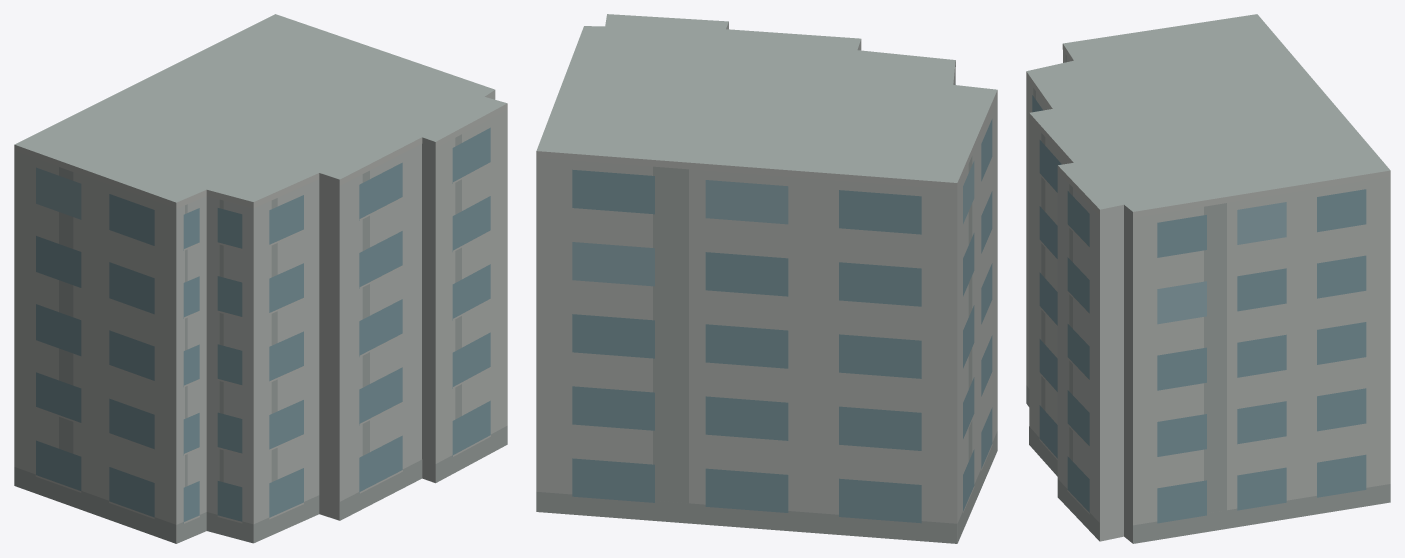
Rendered from survey-upis-32863524.glb.
3 renders of one model, left to right at view 1: azimuth 30°, elevation 25°; view 2: azimuth 150°, elevation 25°; view 3: azimuth 270°, elevation 25°, orthographic. The views are drawn at different scales.
Visible parts, largest first — view 1: survey-upis-32863524.tmp; view 2: survey-upis-32863524.tmp; view 3: survey-upis-32863524.tmp.
Boxes of the visible parts, bbox=[...] form: survey-upis-32863524.tmp: bbox=[14, 14, 507, 543]; survey-upis-32863524.tmp: bbox=[536, 14, 997, 543]; survey-upis-32863524.tmp: bbox=[1026, 14, 1390, 543].
Bounding box in the file's own units: 16.76 × 13.1 × 13.04.
